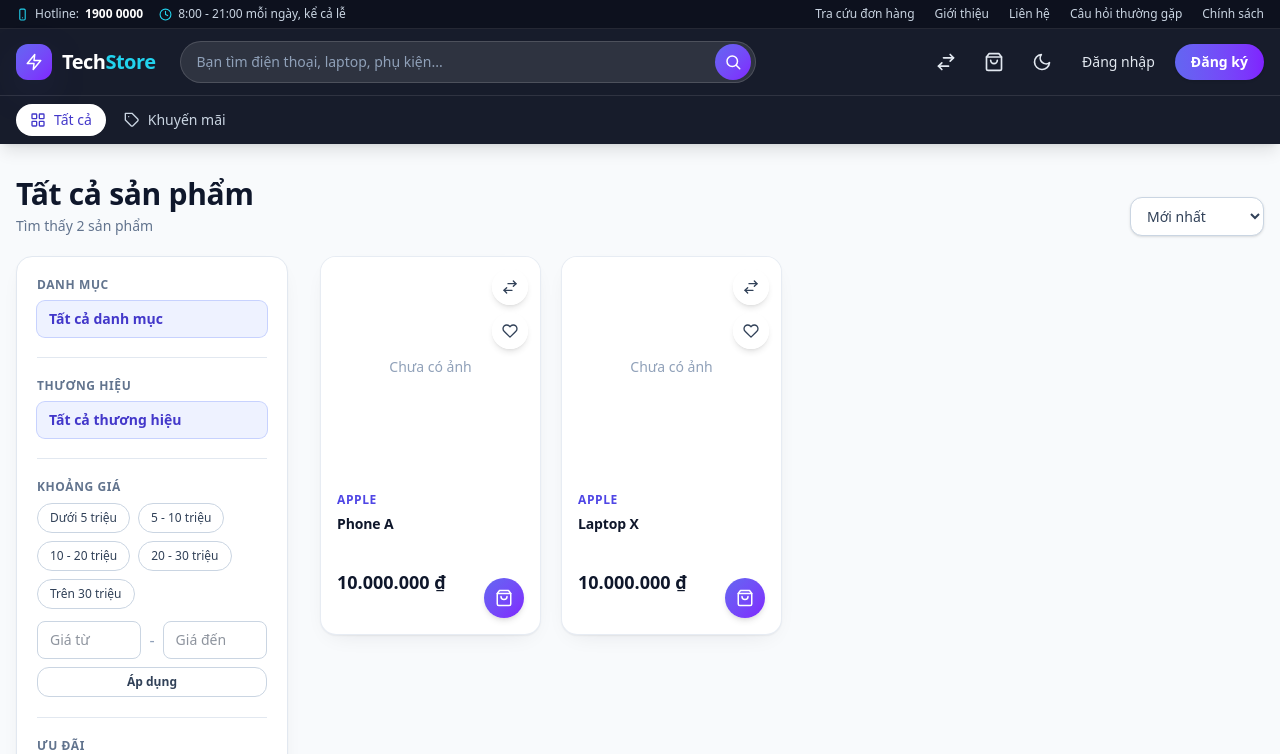
Test: Thêm và bỏ sản phẩm so sánh › chỉ so sánh sản phẩm cùng danh mục
The width and height of the screenshot is (1280, 754).
What coordinates should you click on to do the following:
click the button named "So sánh Phone A"
I would click on:
 (510, 287)
Its box is [492, 269, 528, 305].
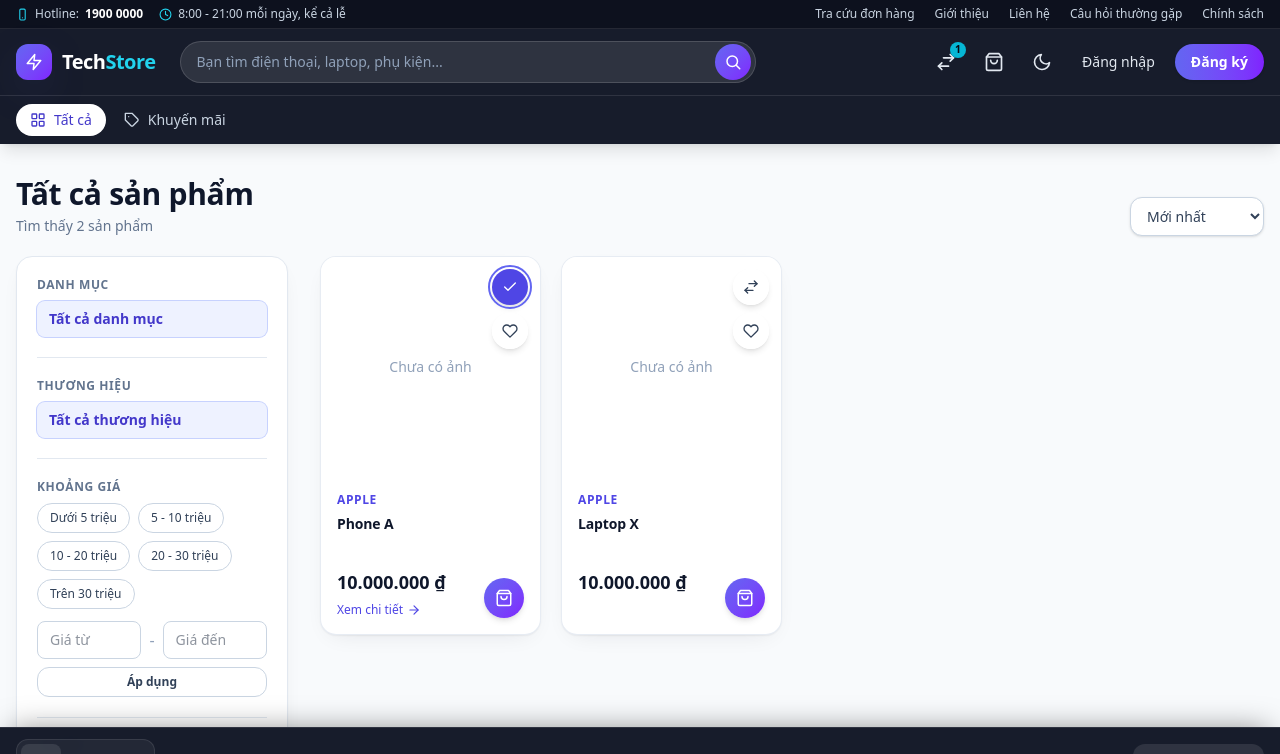
What coordinates should you click on to do the following:
click the button named "So sánh Laptop X"
I would click on:
 (751, 287)
Its box is [733, 269, 769, 305].
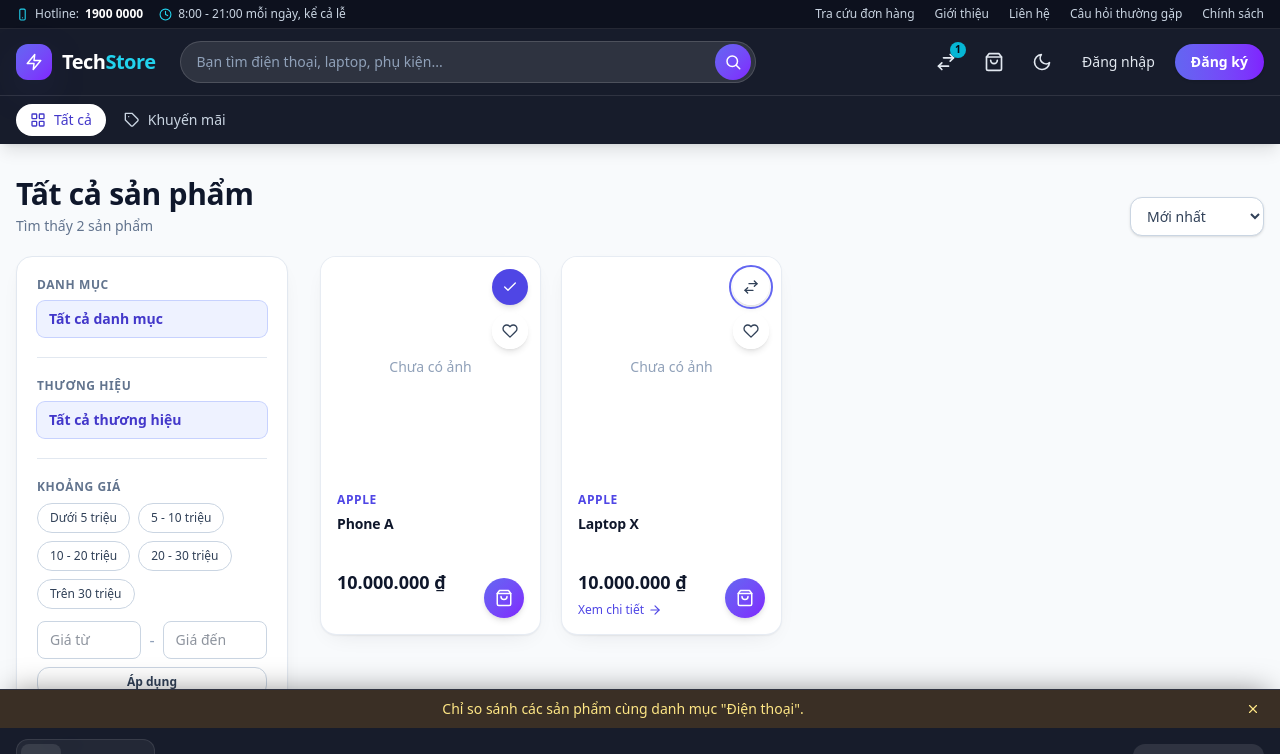
Now the link named "So sánh sản phẩm (1)" is shown, box [936, 42, 966, 72]
Now the message shows "cùng danh mục \"Điện thoại\"", box [442, 699, 804, 718]
What coordinates should you click on to do the following:
click the button named "Đóng thông báo"
I would click on:
 (1253, 709)
Its box is [1242, 698, 1264, 720].
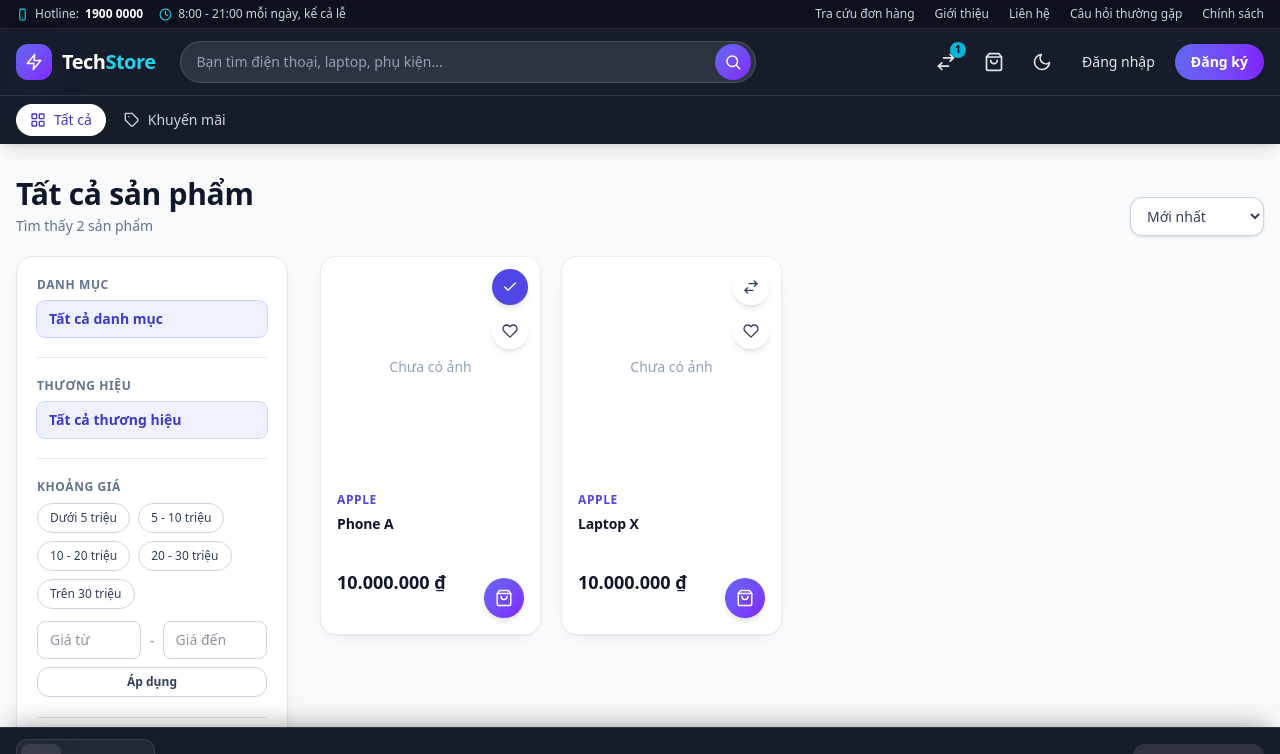
Now the message "Chỉ so sánh các sản phẩm cùng danh mục \"Điện thoại\"." is gone
